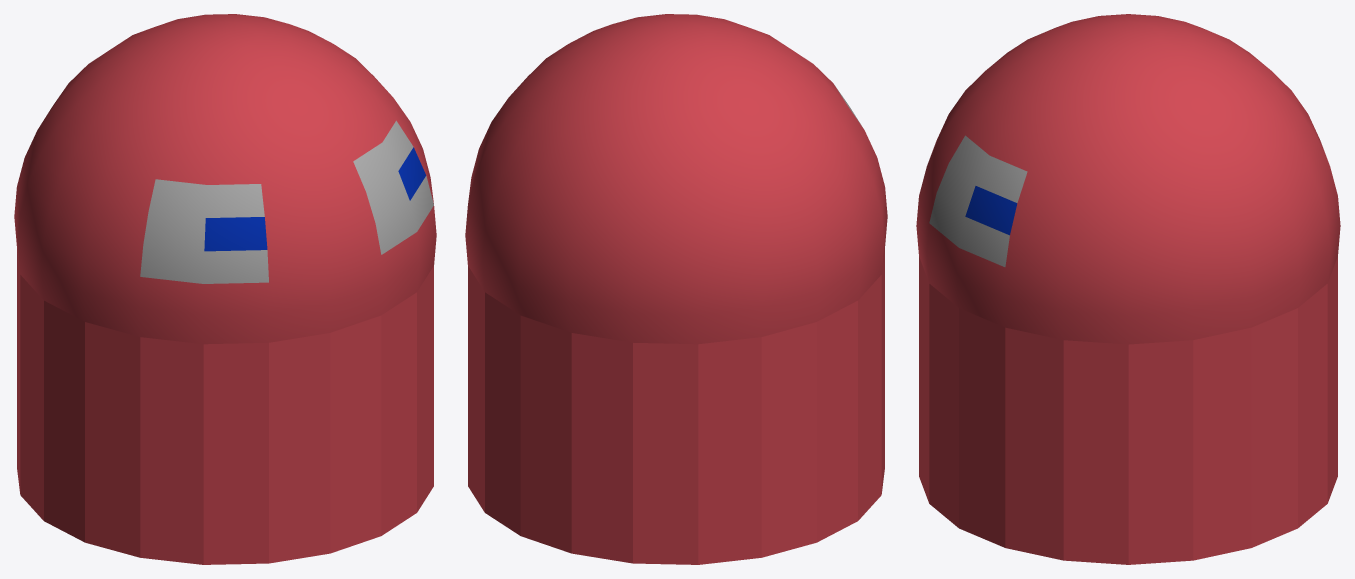
File: NewGhost.fbx
3 renders of one model, left to right at view 1: azimuth 30°, elevation 25°; view 2: azimuth 150°, elevation 25°; view 3: azimuth 270°, elevation 25°, orthographic.
Visible parts, largest first — view 1: Ghost:pSphere1; view 2: Ghost:pSphere1; view 3: Ghost:pSphere1.
Part boxes in pixels (x1,y1,x2,y2): Ghost:pSphere1: [14, 14, 436, 564]; Ghost:pSphere1: [465, 14, 887, 564]; Ghost:pSphere1: [916, 14, 1340, 564].
Bounding box in the file's own units: 2 × 2.3 × 2.
